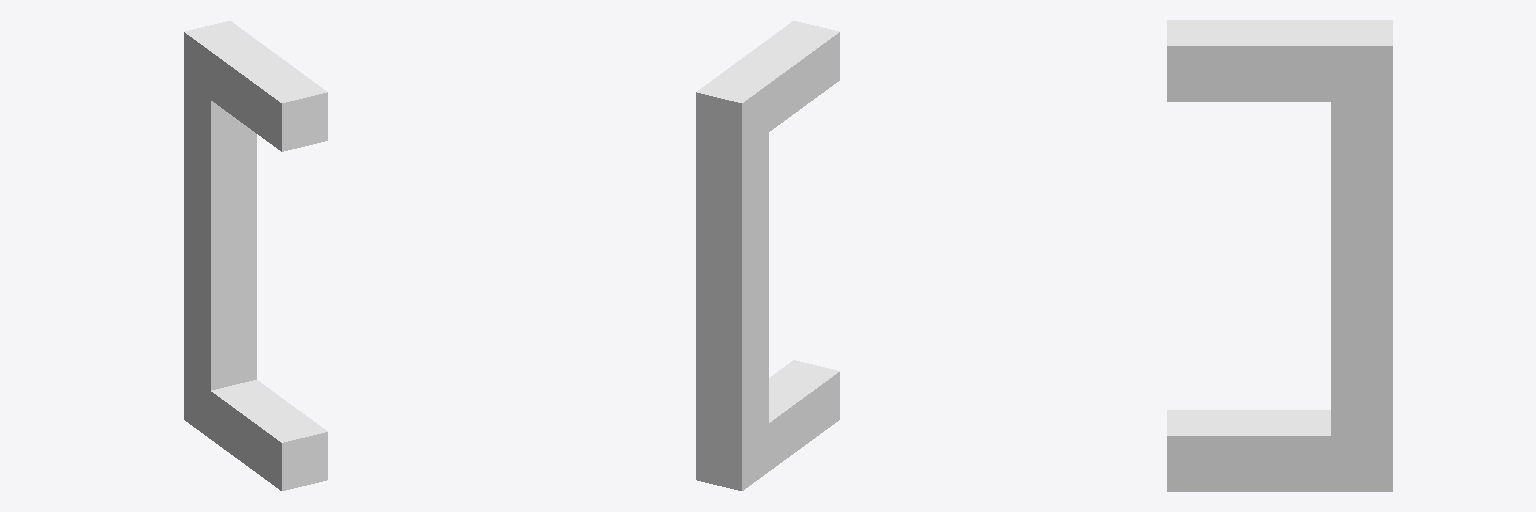
URDF robot description (handle_top_left):
<?xml version="1.0" ?>
<robot name="handle_top_left">
 <link name="baseLink">
   <contact>
     <lateral_friction value="0.5"/>
   </contact>
   <inertial>
     <origin rpy="0 0 0" xyz="0.747499 0.456499 1.19"/>
      <mass value="1.0"/>
      <inertia ixx="0.000000" ixy="-0.000000" ixz="-0.000000" iyy="0.000000" iyz="-0.000000" izz="0.000000"/>
   </inertial>
   <visual>
     <origin rpy="0 0 0" xyz="0 0 0"/>
     <geometry>
       <mesh filename="handle_top_left.obj" scale="1.0 1.0 1.0"/>
     </geometry>
      <material name="white">
       <color rgba="1 1 1 1"/>
     </material>
   </visual>
   <collision>
     <origin rpy="0 0 0" xyz="0 0 0"/>
     <geometry>
       <mesh filename="handle_top_left_vhacd2.obj" scale="1.0 1.0 1.0"/>
     </geometry>
   </collision>
 </link>
</robot>

--- Facts derived from the render (not from the file) ---
3 views of the same robot in one strip: view 1: azimuth 30°, elevation 25°; view 2: azimuth 150°, elevation 25°; view 3: azimuth 270°, elevation 25° (orthographic).
Robot: handle_top_left — 1 links, 0 joints (none); root link baseLink; default pose: all joints at 0.
Visible links, largest first — view 1: baseLink; view 2: baseLink; view 3: baseLink.
Link boxes in pixels (<box>): baseLink: <box>184,21,327,490</box>; baseLink: <box>696,21,839,490</box>; baseLink: <box>1167,20,1392,491</box>.
Size in the robot's own frame: 0.015 by 0.055 by 0.12 metres.
Meshes: 1 distinct files referenced, 1 mesh visuals loaded (1 OBJ).